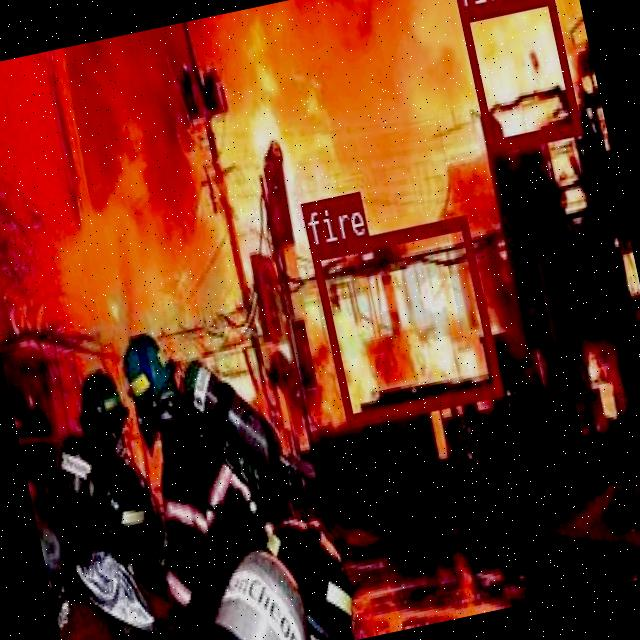fire: (308, 214, 502, 425), (457, 0, 580, 151)
